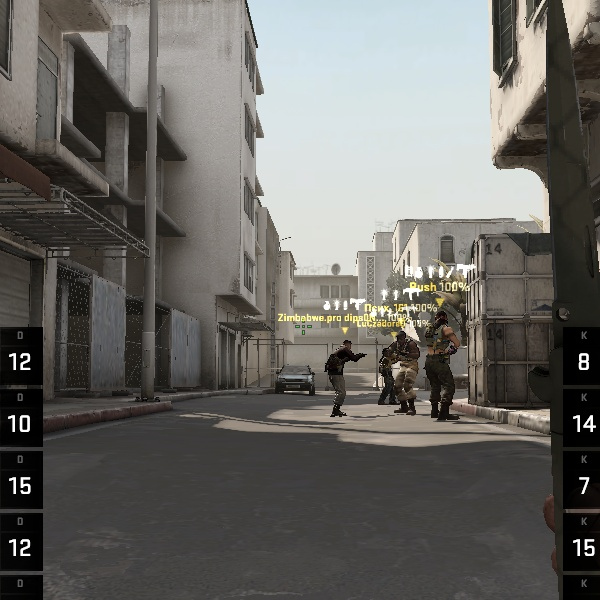t_body: (418, 310, 468, 418), (317, 335, 364, 419), (389, 332, 419, 415), (376, 345, 396, 408)
t_head: (394, 332, 407, 346), (434, 311, 447, 324), (342, 339, 353, 351)
